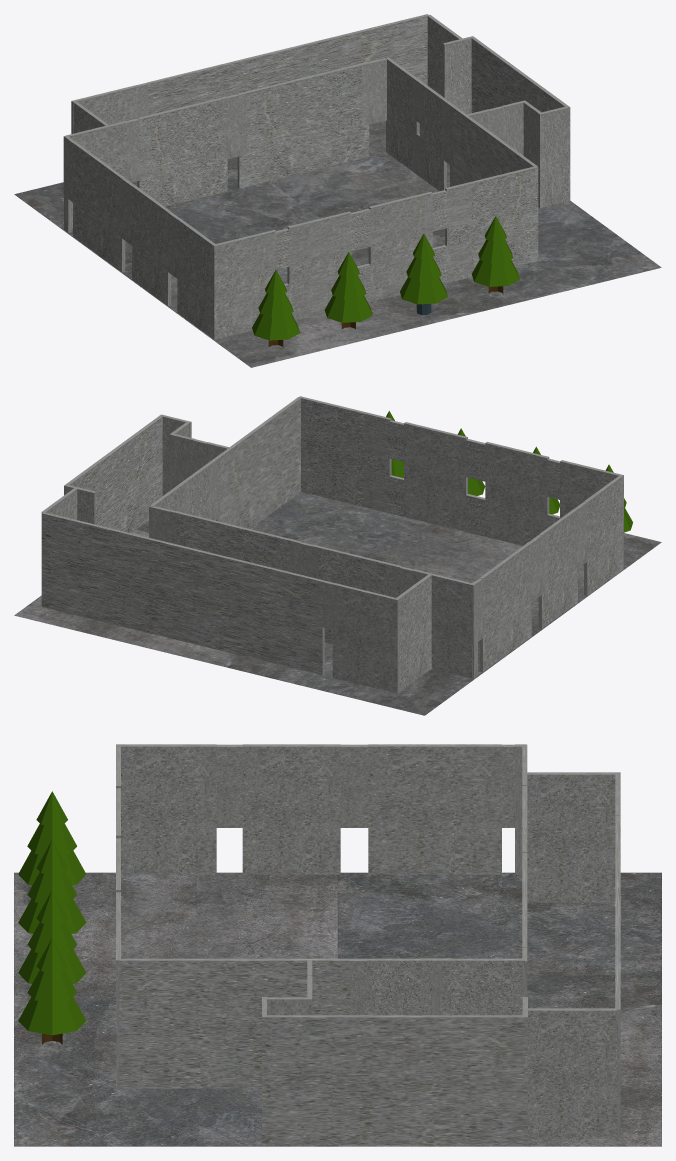
Rendered from wareeton.glb.
The picture shows the model from 3 angles, top to bottom: view 1: azimuth 30°, elevation 25°; view 2: azimuth 150°, elevation 25°; view 3: azimuth 270°, elevation 25°; orthographic projection. The views are drawn at different scales.
Parts seen in each view (by area): view 1: Plane; view 2: Plane; view 3: Plane.
Part boxes in pixels (bbox=[...]): Plane: bbox=[14, 14, 661, 367]; Plane: bbox=[14, 396, 661, 715]; Plane: bbox=[14, 744, 661, 1146].
Size of the model in its own units: 92.86 by 20.41 by 92.86.
Materials: 10 (2 with a texture image).
